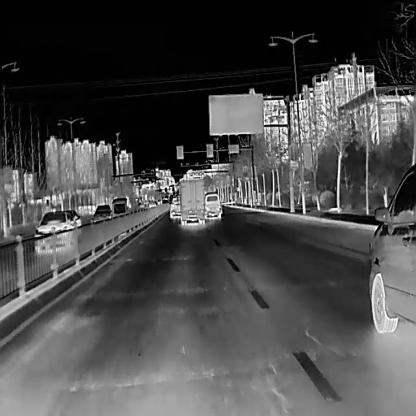car: (368, 163, 416, 333), (33, 209, 76, 254), (203, 191, 221, 219), (90, 203, 111, 223), (168, 196, 180, 218), (148, 200, 158, 210)
truck: (178, 179, 204, 225), (111, 196, 128, 218)
